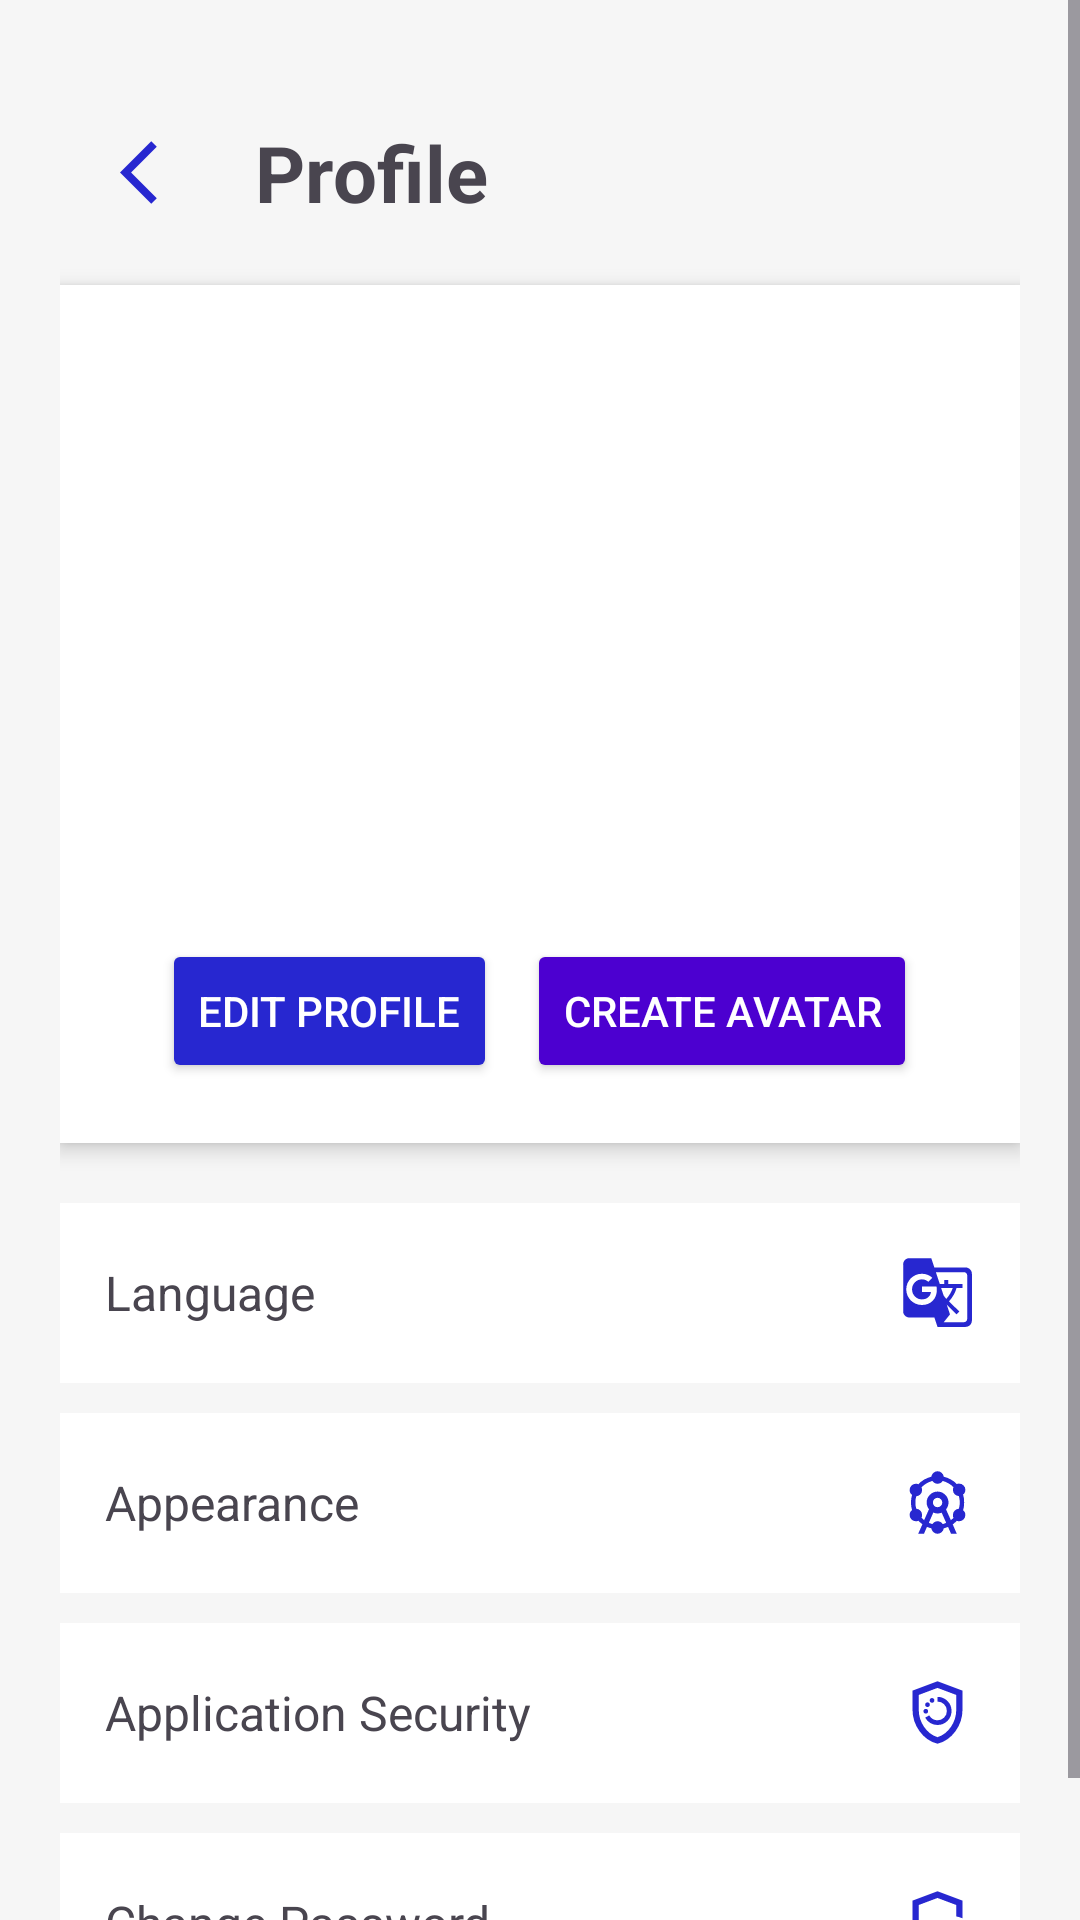

Icons on this 1080 x 1920 Android screen, each with its box as detection(x1, y1, x2, y2):
Retour: detection(120, 141, 157, 204)
securite: detection(912, 1681, 963, 1744)
